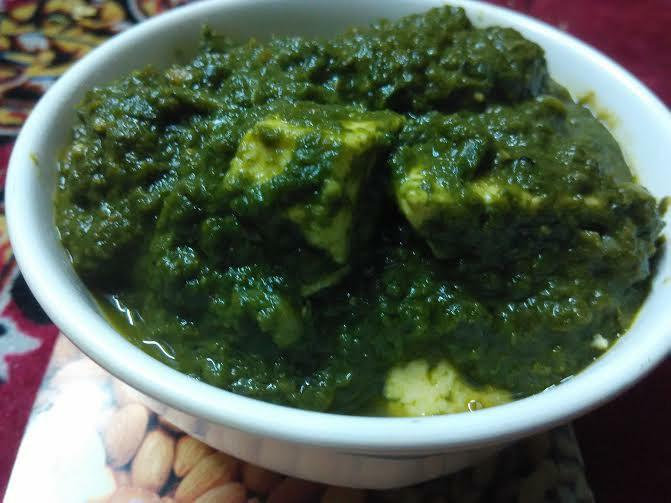PalakPaneer: (59, 0, 668, 419)
